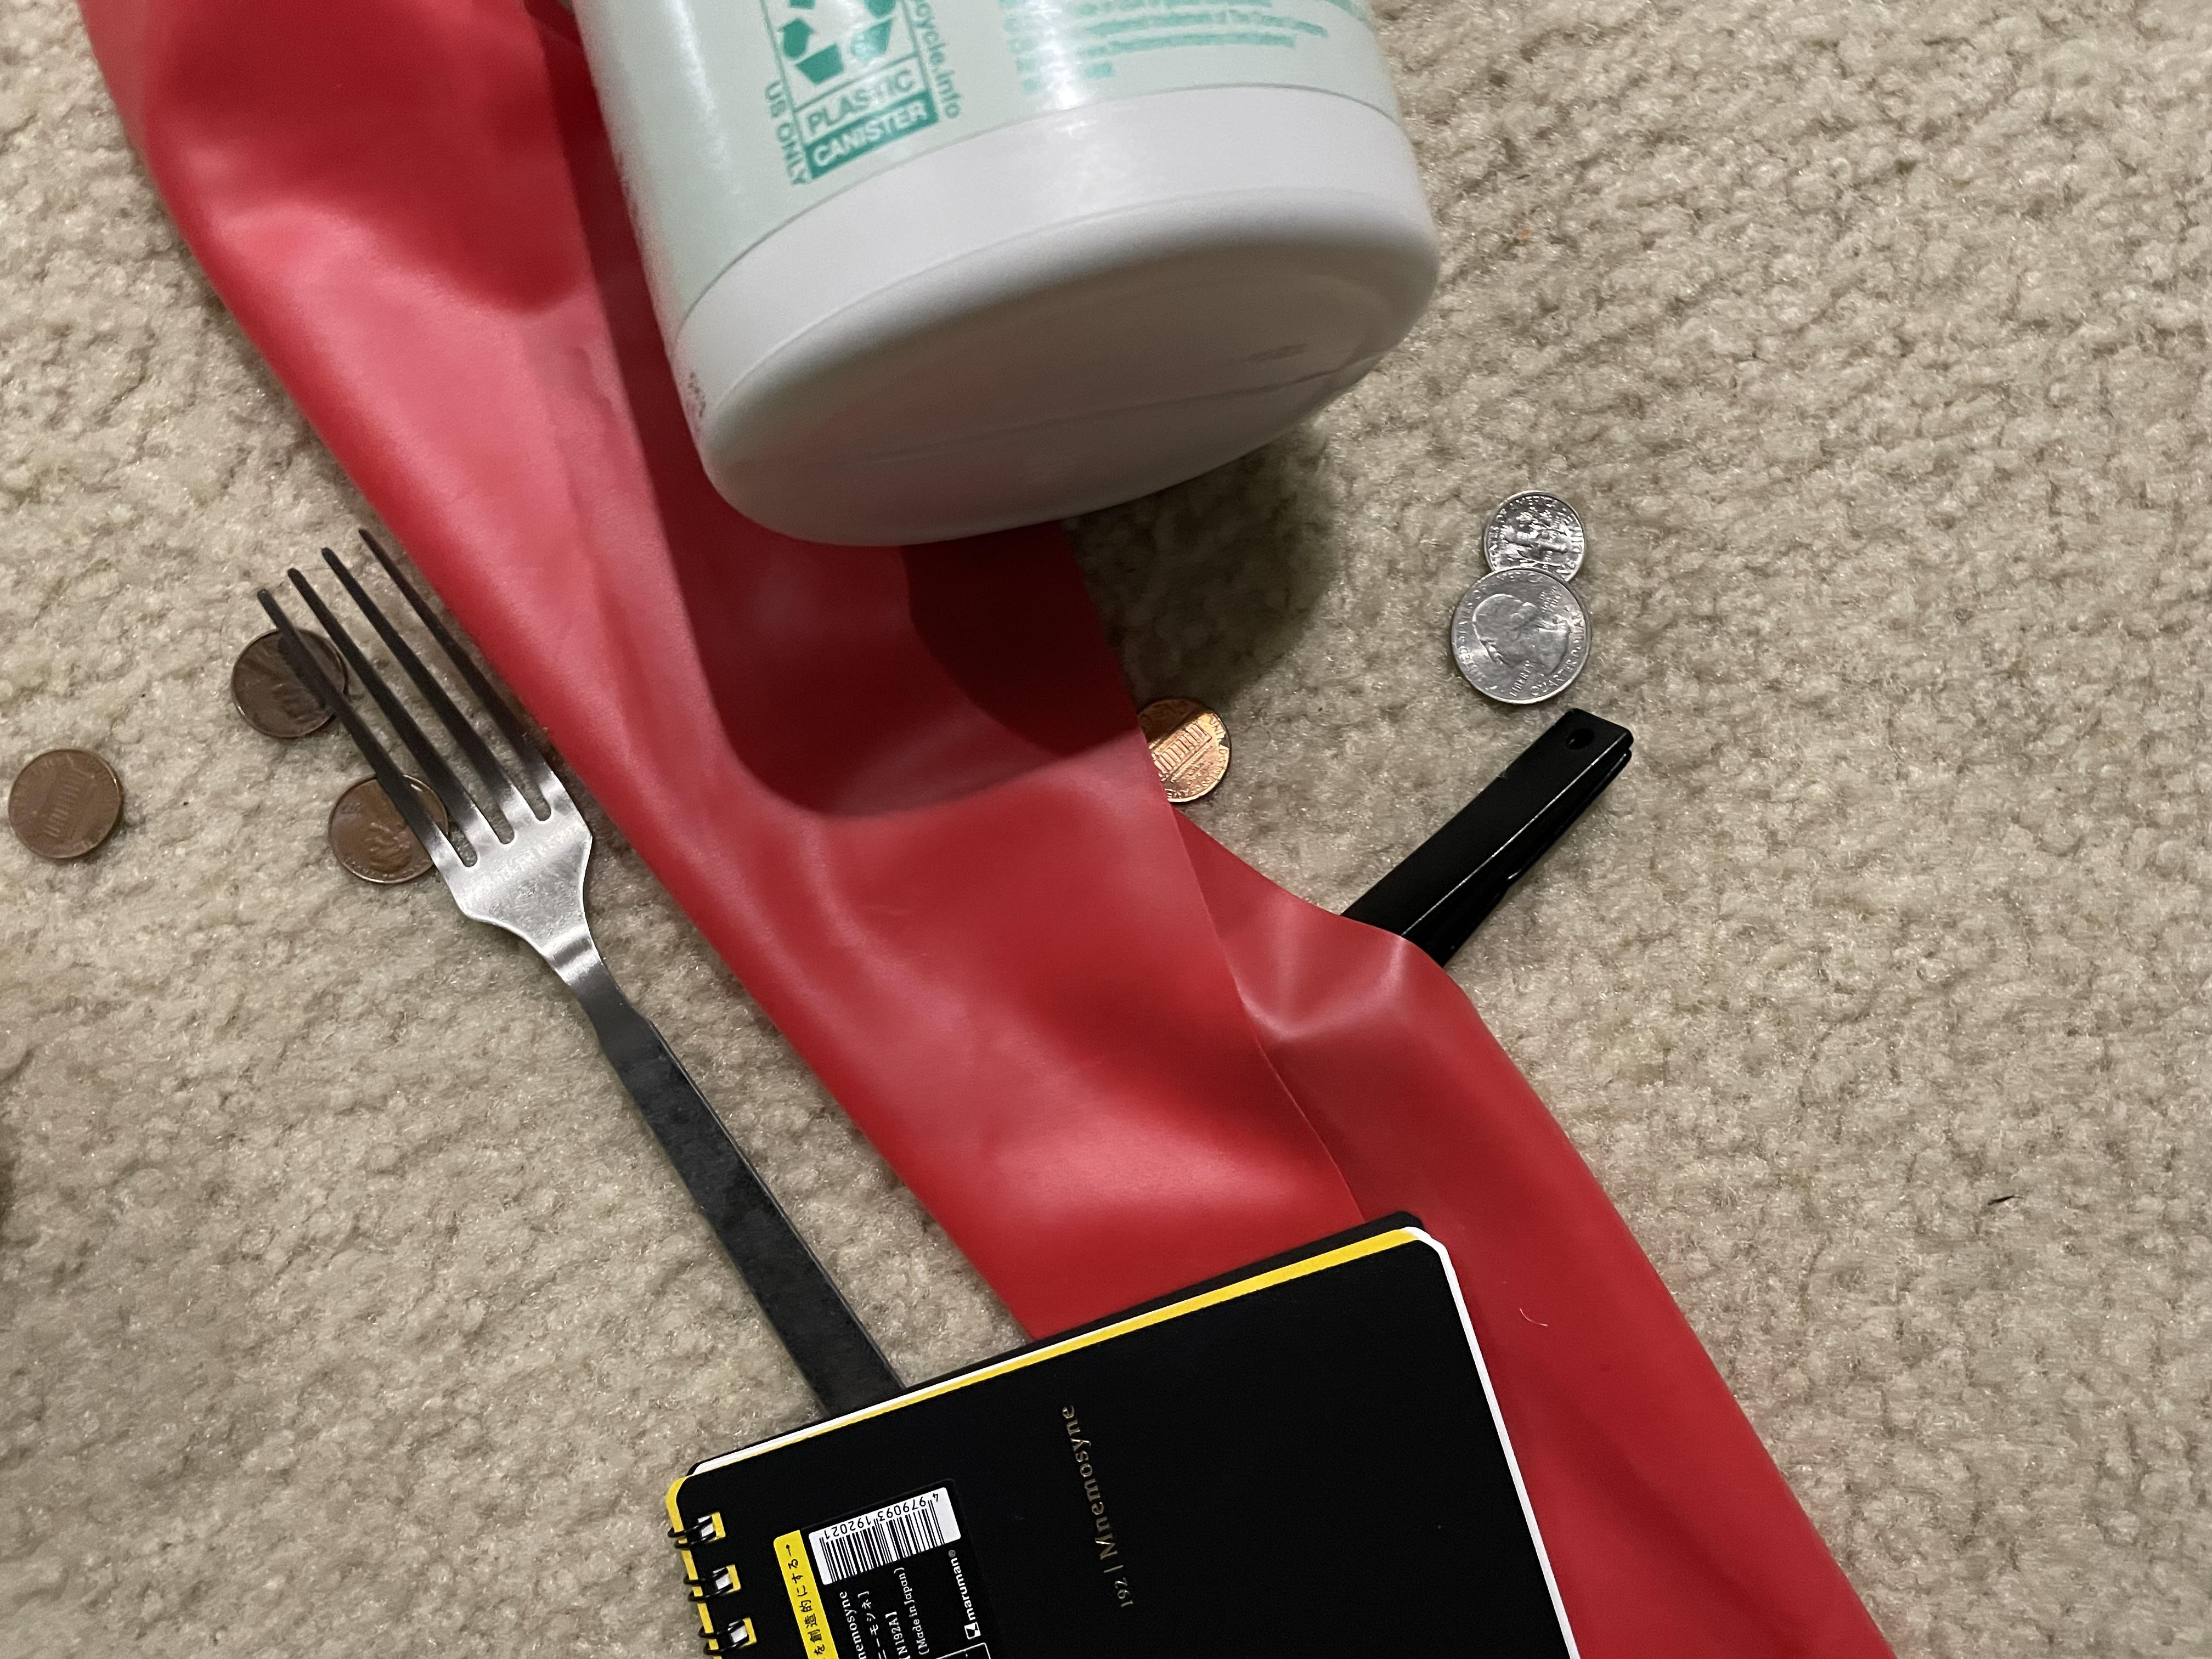Dime: (1475, 491, 1608, 582)
Penny: (305, 770, 448, 894), (2, 749, 139, 864), (225, 624, 352, 744), (1122, 695, 1252, 809)
Quarter: (1440, 565, 1604, 708)
